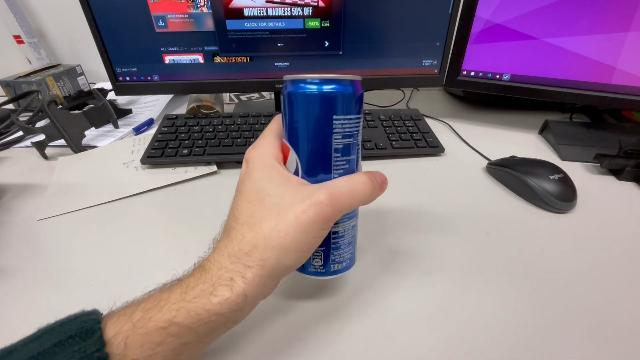Pepsi: (276, 72, 366, 282)
